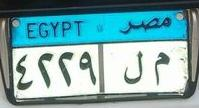2: (35, 50, 54, 91), (57, 51, 74, 88)
4: (14, 53, 34, 91)
9: (78, 51, 97, 88)
laam: (122, 48, 145, 86)
meem: (151, 49, 171, 86)
